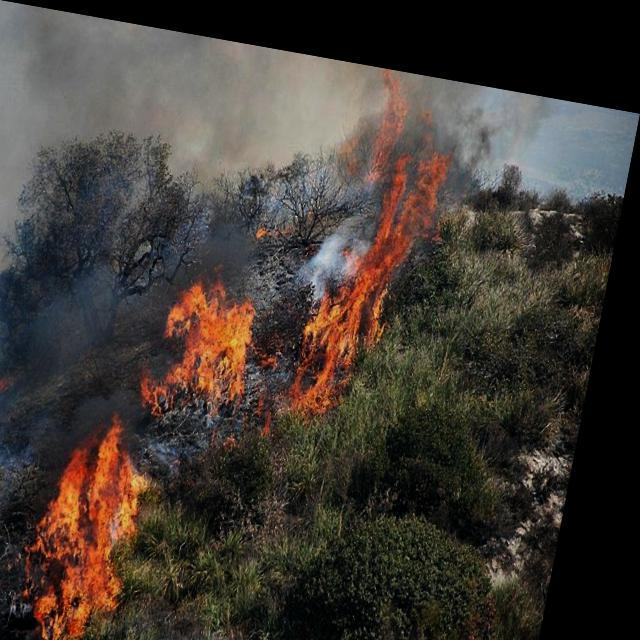Fire: (94, 29, 487, 448), (0, 391, 224, 639), (0, 291, 56, 422), (0, 480, 23, 639)
